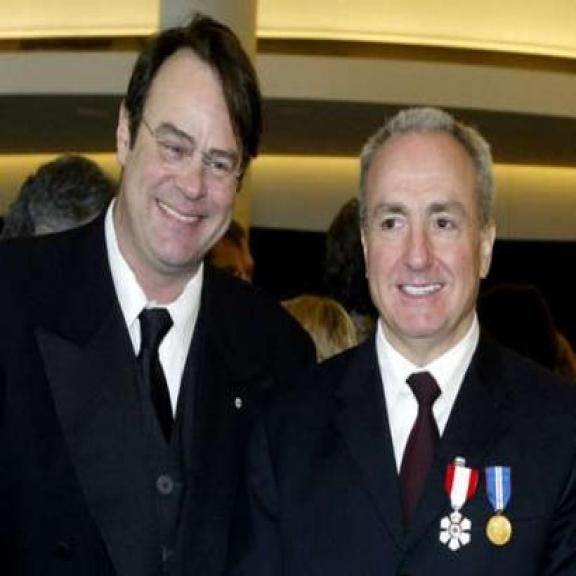face: (115, 58, 240, 269), (364, 145, 496, 338)
